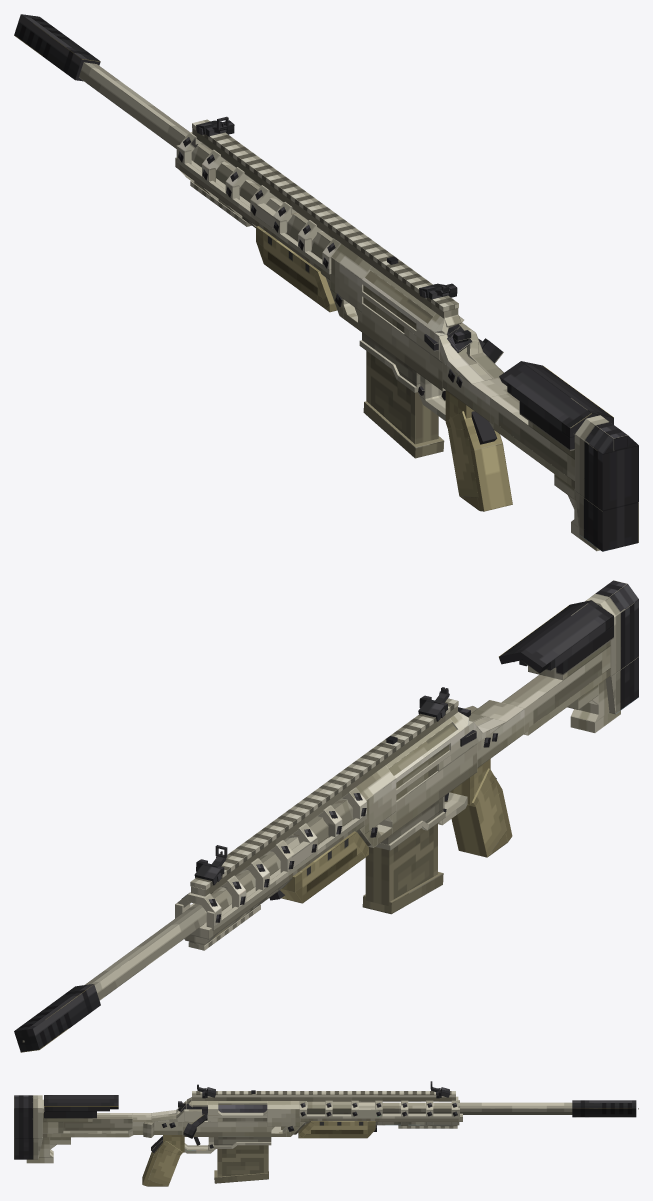
Rendered from ballista.fbx.
3 views of the same model, one above another, from view 1: azimuth 30°, elevation 25°; view 2: azimuth 150°, elevation 25°; view 3: azimuth 270°, elevation 25° (orthographic). The views are drawn at different scales.
Visible parts, largest first — view 1: gun, magazine, ironsights; view 2: gun, magazine, ironsights; view 3: gun, magazine, bolt1, ironsights, bolt2.
Part boxes in pixels (x1,y1,x2,y2): gun: (14,14,638,551); magazine: (363,351,444,458); ironsights: (196,116,457,299); gun: (14,580,638,1052); magazine: (362,823,443,914); ironsights: (194,687,449,885); gun: (14,1091,636,1186); magazine: (214,1145,268,1183); bolt1: (178,1101,267,1112); ironsights: (197,1081,449,1098); bolt2: (183,1106,207,1138).
Bounding box in the file's own units: 62.56 × 159 × 902.
